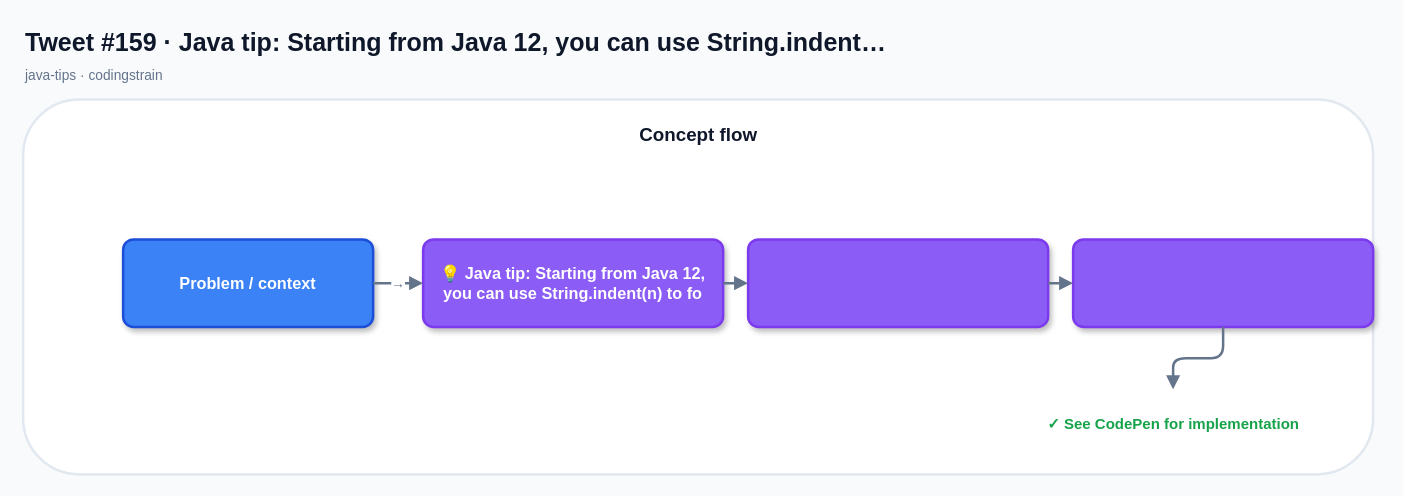
Some shapes in this 1403 by 496 pixel diagram are drawn without their labels. Each missing label, with the centre of its shape:
#Java #ModernJava: point (898, 284)
Runnable sample: `java-tips`: point (1223, 284)
